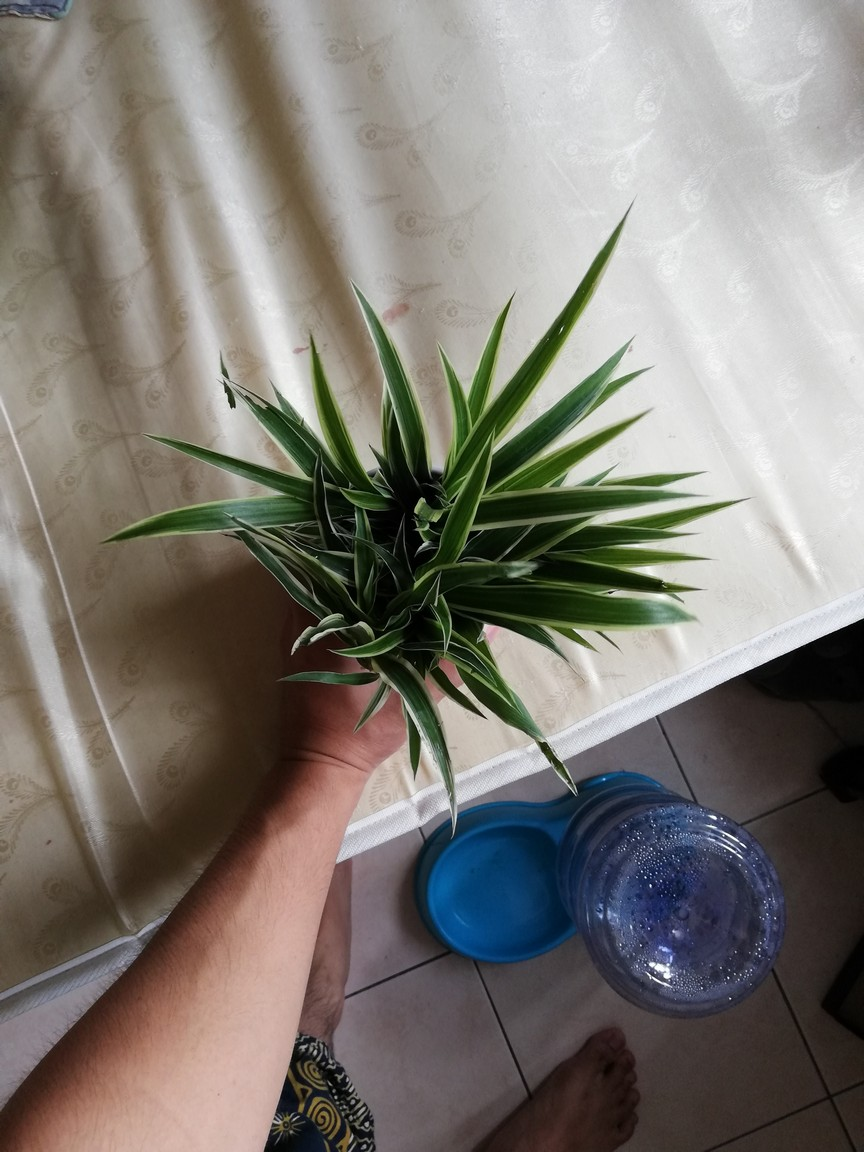daun: (541, 194, 641, 334), (137, 428, 268, 485), (92, 498, 218, 553), (346, 268, 400, 367), (585, 558, 715, 598), (576, 403, 658, 457), (471, 277, 521, 362), (309, 324, 345, 437), (643, 494, 760, 528), (533, 729, 583, 800), (430, 662, 490, 721), (427, 739, 462, 839), (221, 507, 293, 553), (276, 665, 390, 693), (461, 421, 503, 496), (610, 543, 724, 570), (589, 362, 662, 398), (597, 481, 716, 503), (435, 338, 462, 432), (592, 522, 702, 545), (539, 636, 583, 684), (350, 681, 392, 730), (262, 368, 302, 419), (590, 623, 638, 664), (596, 328, 645, 365), (621, 468, 716, 487), (426, 609, 462, 654), (403, 713, 424, 787), (556, 628, 601, 662), (327, 639, 392, 662), (578, 458, 627, 487), (311, 445, 327, 525), (287, 619, 319, 657), (391, 509, 410, 572), (417, 568, 442, 612), (365, 438, 389, 468)
